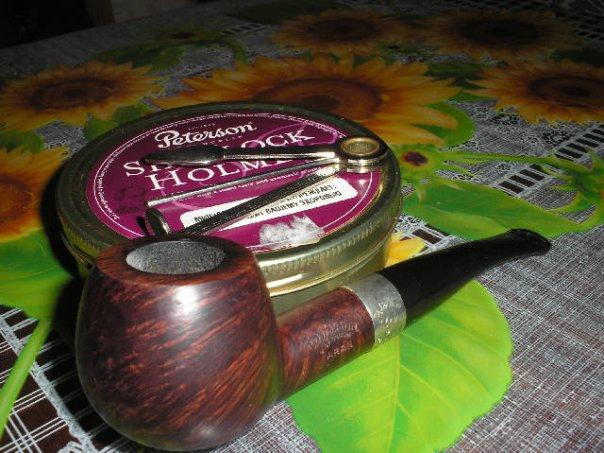trubka: (75, 229, 550, 448)
